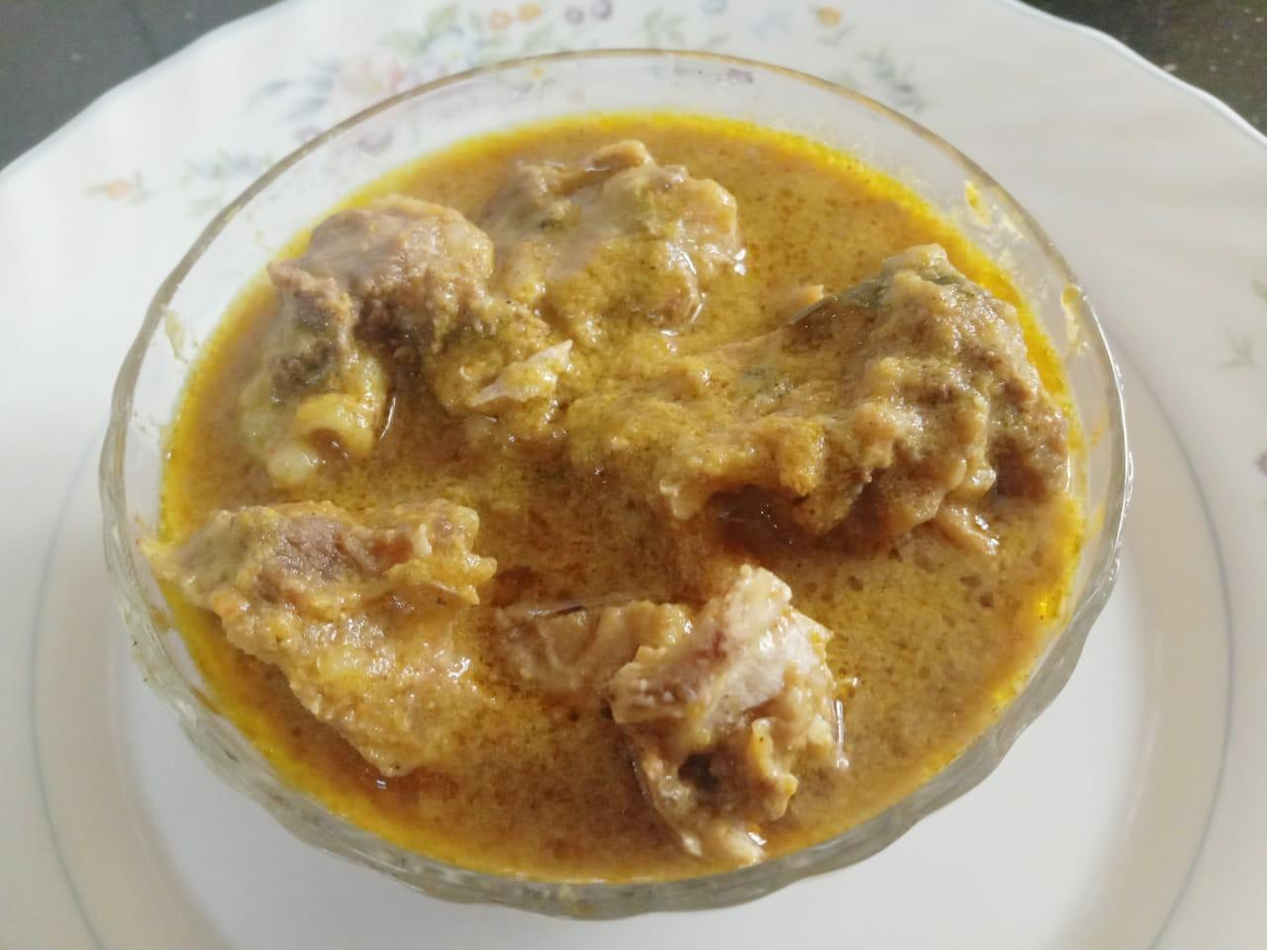MuttonCurry: (157, 110, 1081, 876)
